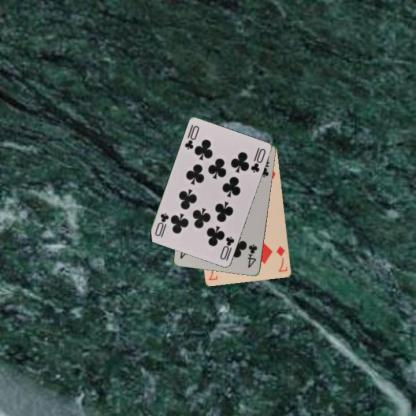10c: (182, 122, 200, 151), (217, 234, 236, 261)
4c: (245, 242, 258, 269)
7d: (274, 244, 289, 274)
